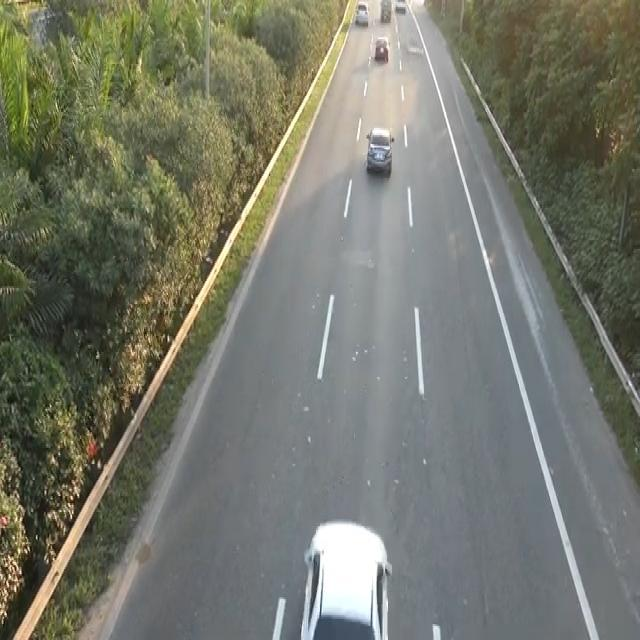bus: (297, 516, 395, 638), (364, 123, 394, 176)
